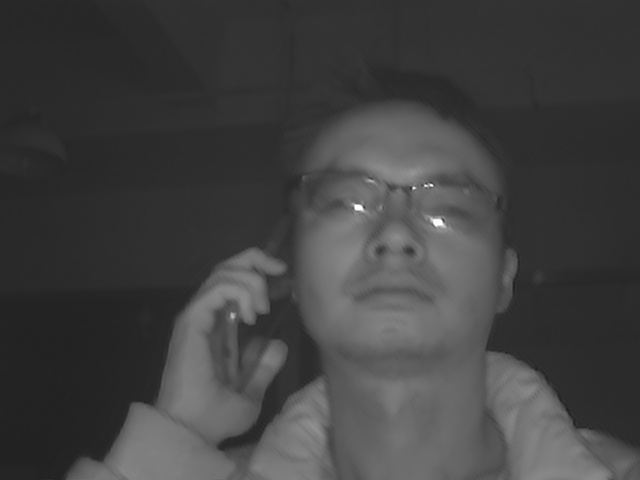hand: (149, 244, 290, 445)
